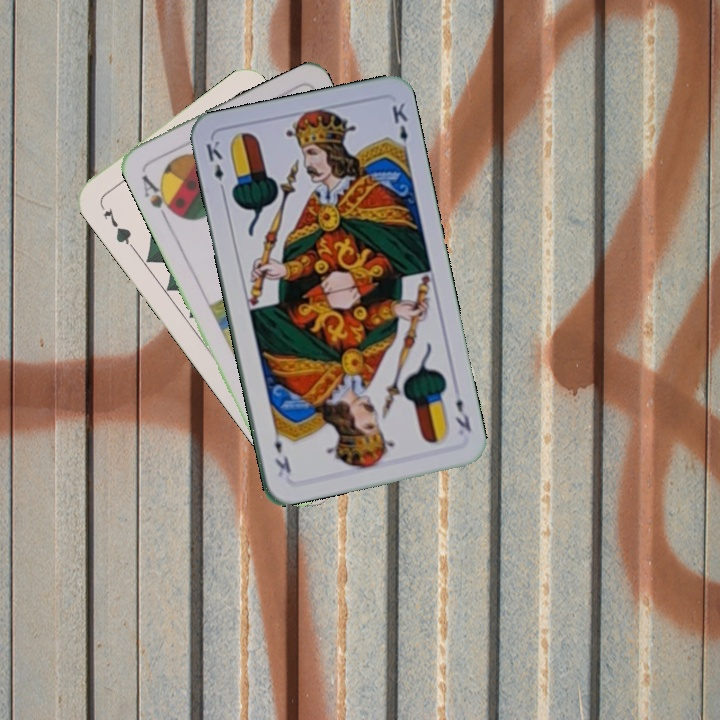EK: (202, 136, 228, 196), (451, 394, 474, 434)
G7: (96, 200, 137, 251)
SA: (138, 171, 179, 223)
